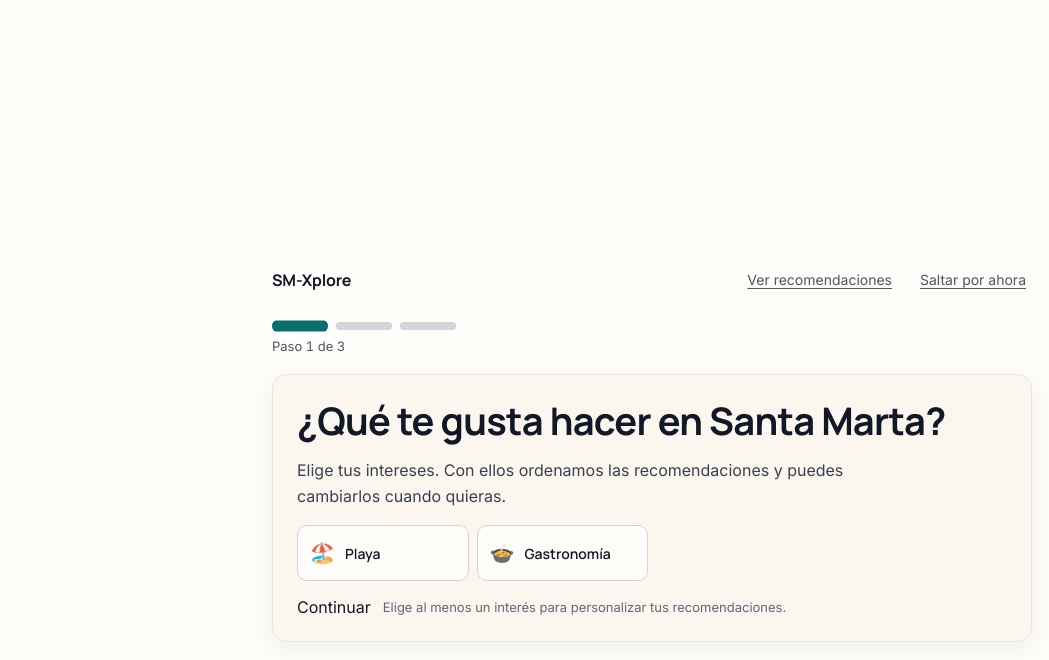
OnboardingPage › el atajo de recomendaciones sale a /recomendaciones desde el primer paso
Expected: the button "🏖️ Playa" is shown, top-left (297, 525), bottom-right (468, 581)
Click the link "Ver recomendaciones".
click(820, 280)  # box top-left (747, 271), bottom-right (892, 288)
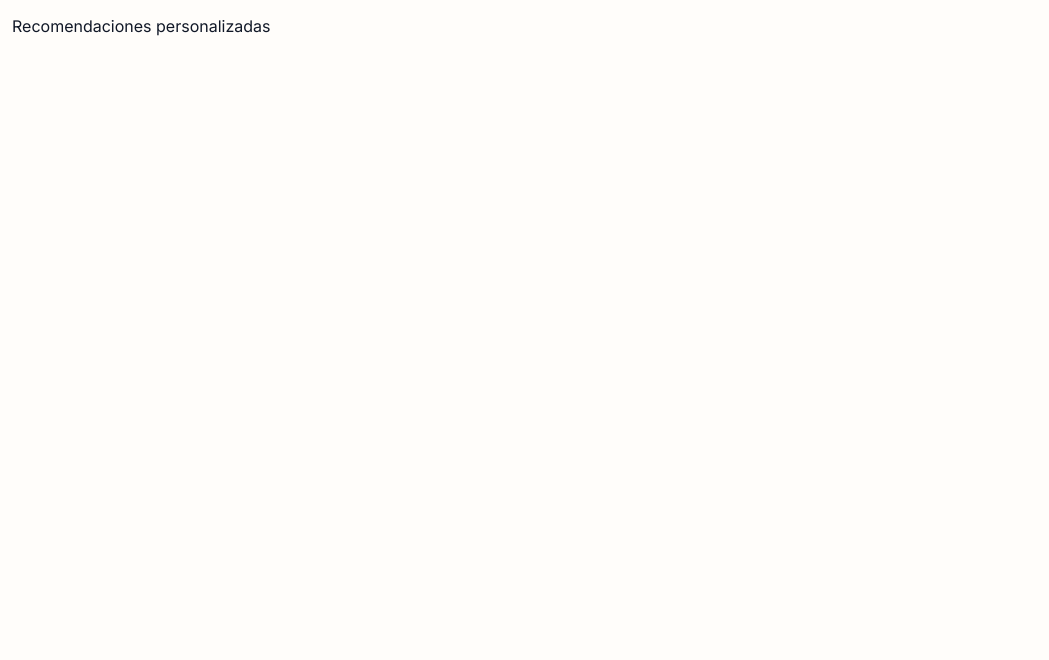
Result: the text "Recomendaciones personalizadas" is shown at top-left (12, 16), bottom-right (270, 36)
